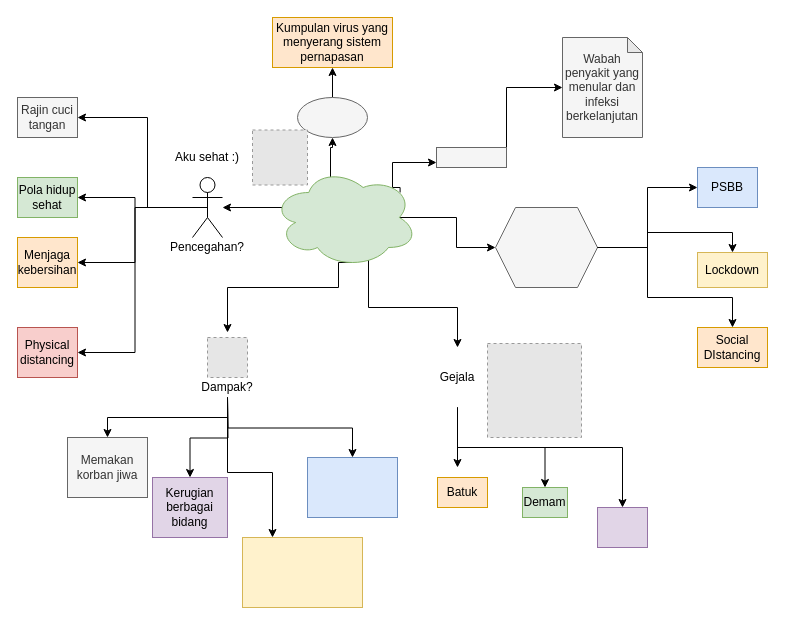
The diagram is 785 pixels wide and 625 high, and some of its shapes have lost their labels. Grey dashed boxes stand in for pictures. The centre of each missing label's shape, as x and y in pixels:
Covid-19?: pixel 332 117
Kebijakan pemerintah: pixel 546 247
Keresahan dan kegelisahan: pixel 352 487
Meningkatkan: - Kemiskinan - Pengangguran - Kriminalitas: pixel 302 572
Pandemi Covid-19: pixel 345 217
Pandemi?: pixel 471 157
Sulit bernafas: pixel 622 527
